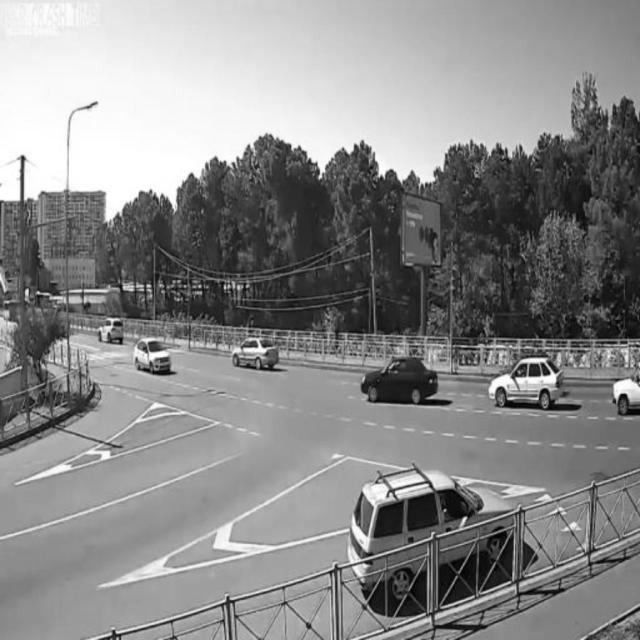vehicle: (349, 466, 516, 598), (360, 352, 438, 406), (487, 357, 565, 407), (230, 334, 281, 374), (132, 337, 173, 374), (613, 361, 640, 417), (95, 314, 127, 344)
